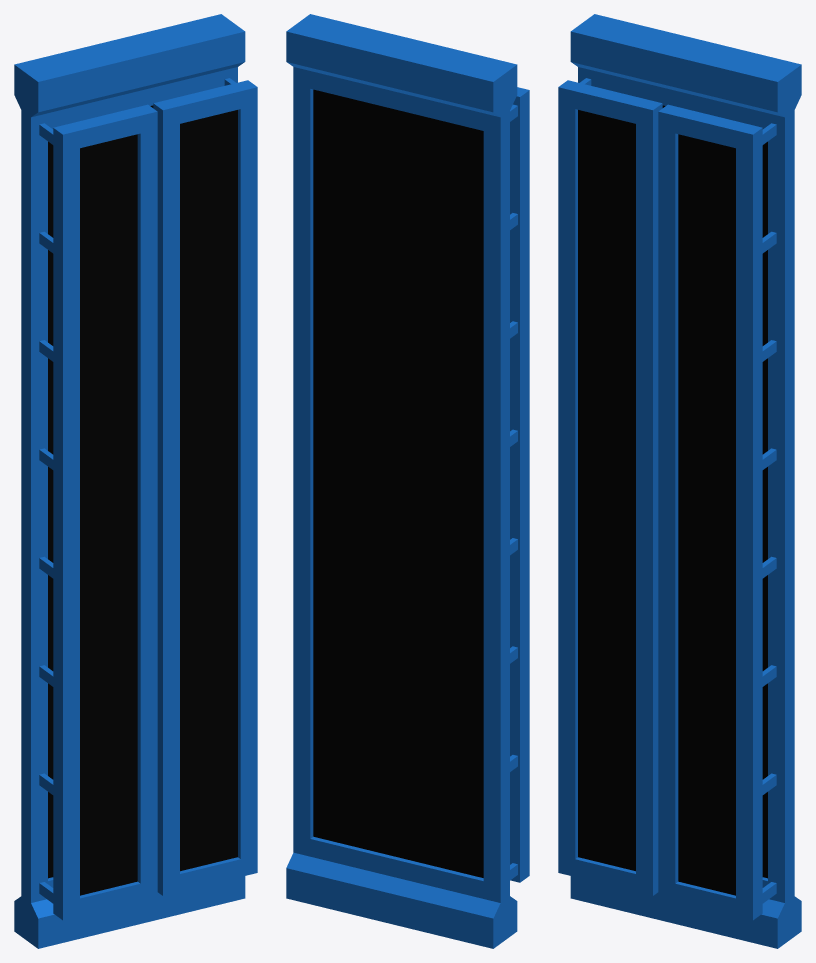
The model's file is SM_wall_with_window.fbx.
3 views of the same model, side by side, from view 1: azimuth 30°, elevation 25°; view 2: azimuth 150°, elevation 25°; view 3: azimuth 330°, elevation 25° (orthographic).
Visible parts, largest first — view 1: wall_with_window_1; view 2: wall_with_window_1; view 3: wall_with_window_1.
Boxes of the visible parts, x1,y1,x2,y2 form: wall_with_window_1: [14, 14, 257, 948]; wall_with_window_1: [286, 14, 529, 948]; wall_with_window_1: [558, 14, 801, 948].
Size of the model in its own units: 100 by 400 by 35.49.
